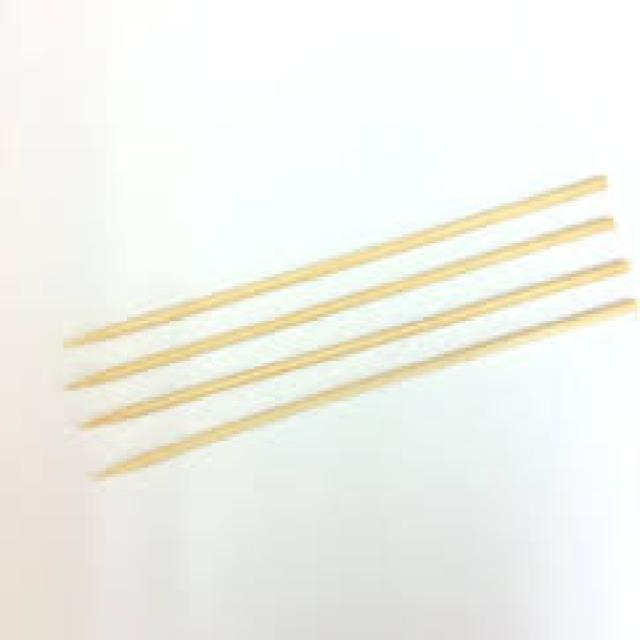stick: (67, 213, 613, 396), (69, 259, 628, 434), (112, 300, 632, 475), (70, 178, 606, 347)
